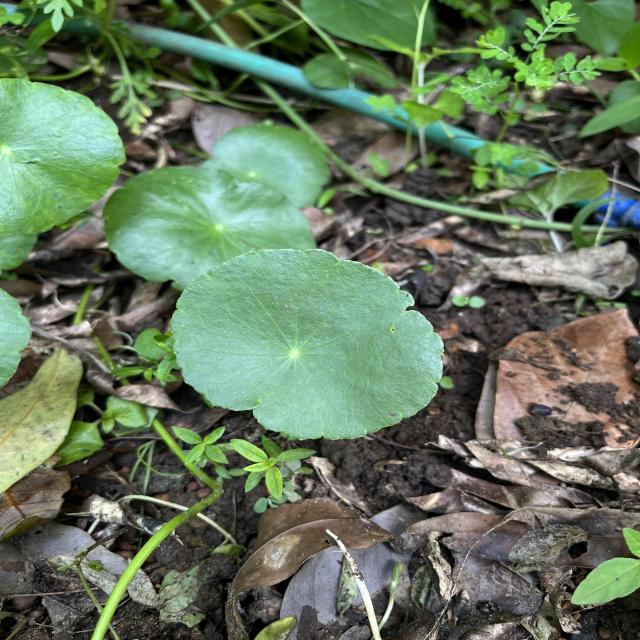Bacopa monnieri: (168, 245, 447, 443), (100, 163, 322, 296), (0, 73, 129, 242)
